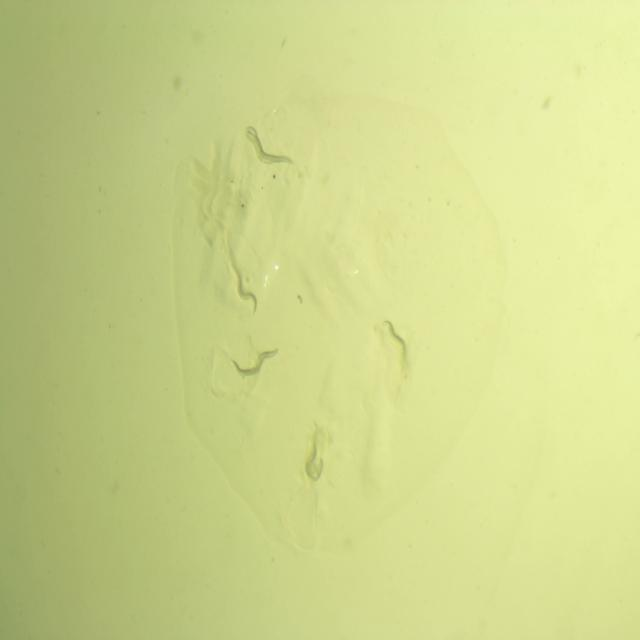worm: (244, 128, 296, 167), (230, 343, 280, 380), (242, 124, 276, 168), (232, 268, 260, 317), (381, 318, 409, 362), (302, 434, 325, 486)
